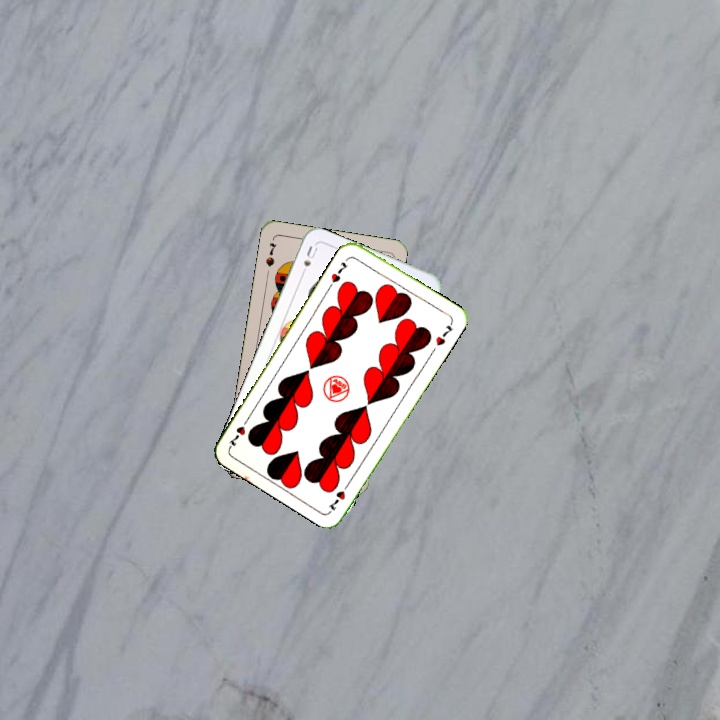H7: (324, 477, 353, 513), (327, 258, 350, 285)
S7: (262, 238, 279, 269)
SU: (297, 242, 320, 280)
